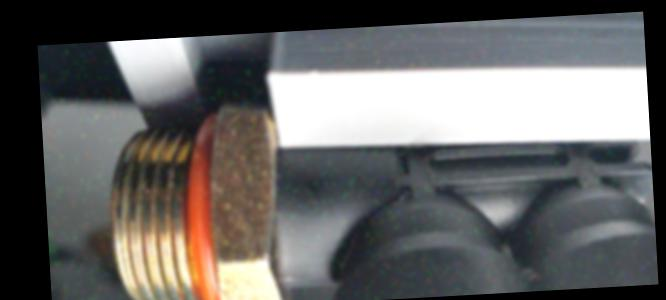joint line: (305, 268, 331, 280)
white mark: (272, 272, 301, 286)
